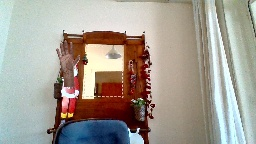Mano_aperta: (55, 38, 81, 70)
